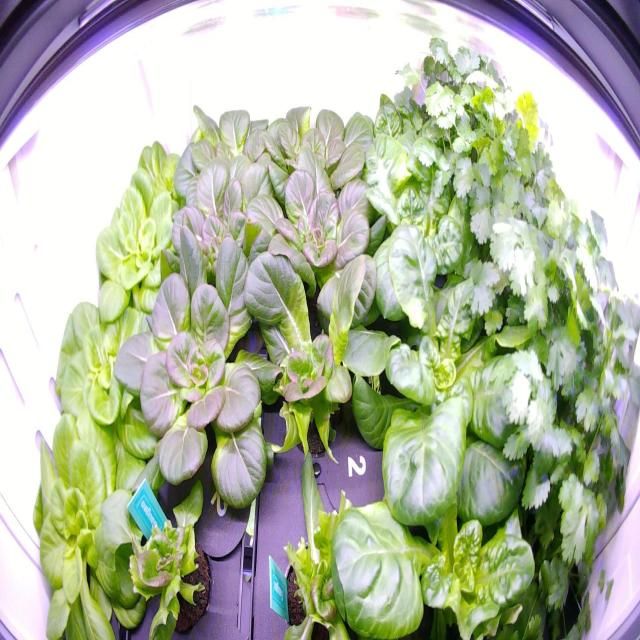young: (341, 223, 542, 530), (323, 399, 557, 636), (108, 238, 286, 522), (22, 391, 162, 639), (238, 245, 392, 455), (45, 260, 168, 501), (237, 149, 384, 321), (153, 159, 290, 321), (365, 132, 491, 298), (88, 170, 202, 346), (257, 91, 381, 212), (168, 93, 280, 222), (115, 115, 212, 263), (367, 86, 482, 174)
